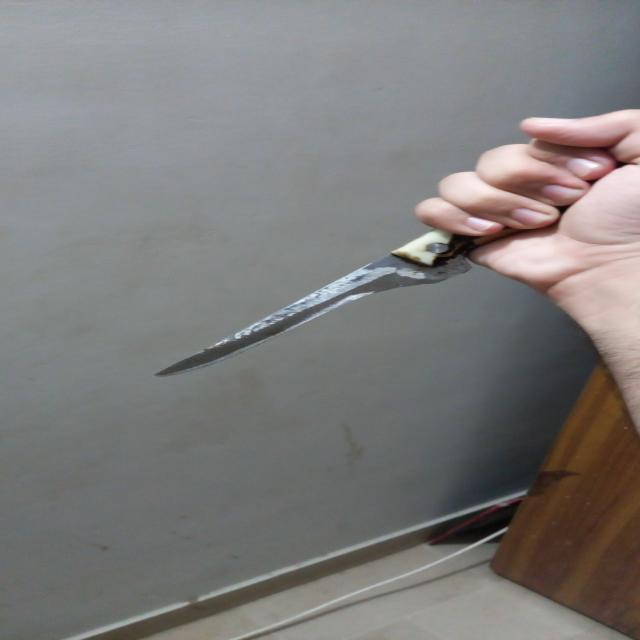knife: (154, 228, 490, 377)
